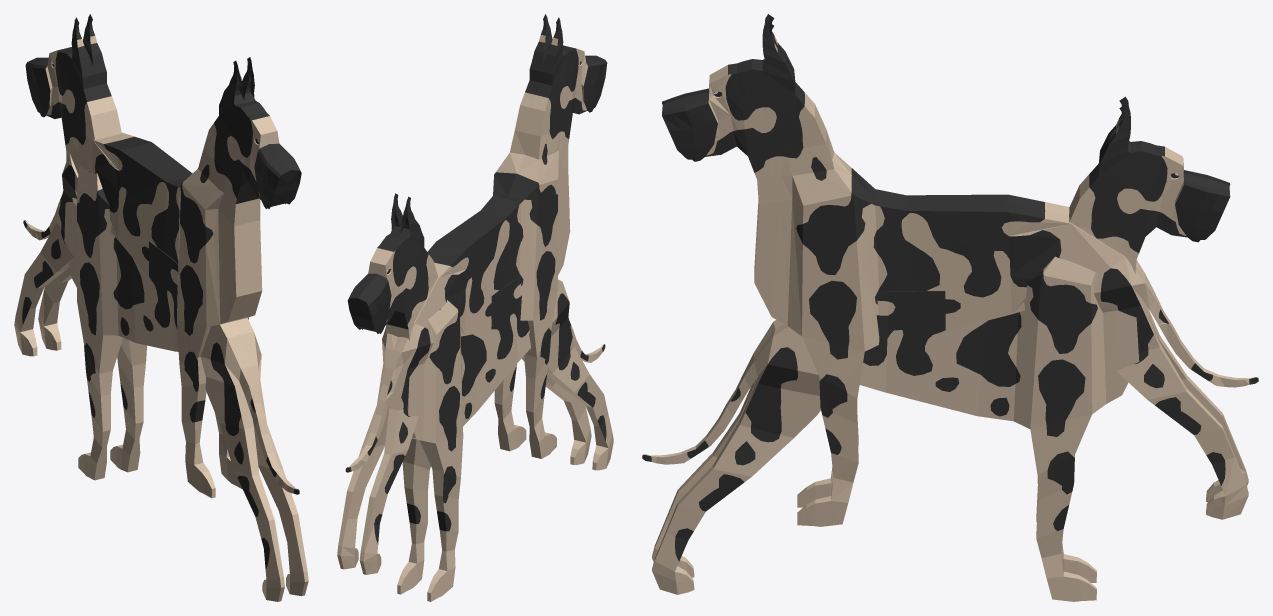
File: gus-v2.glb
The picture shows the model from 3 angles, left to right: view 1: azimuth 30°, elevation 25°; view 2: azimuth 150°, elevation 25°; view 3: azimuth 270°, elevation 25°; orthographic projection. The views are drawn at different scales.
Visible parts, largest first — view 1: Gus_Rim, Cube_4a6ccd, Cube_d993b2; view 2: Gus_Rim, Cube_4a6ccd, Cube_d993b2; view 3: Gus_Rim, Cube_4a6ccd, Cube_d993b2.
Boxes of the visible parts, x1,y1,x2,y2 form: Gus_Rim: (14, 57, 301, 498); Cube_4a6ccd: (45, 36, 308, 601); Cube_d993b2: (25, 14, 299, 569); Gus_Rim: (337, 14, 607, 574); Cube_4a6ccd: (361, 248, 613, 601); Cube_d993b2: (347, 193, 606, 531); Gus_Rim: (662, 14, 1258, 526); Cube_4a6ccd: (647, 118, 1186, 601); Cube_d993b2: (642, 96, 1230, 561).
Bounding box in the file's own units: 0.4323 × 4.45 × 4.34.
Materials: 4 (1 with a texture image).
